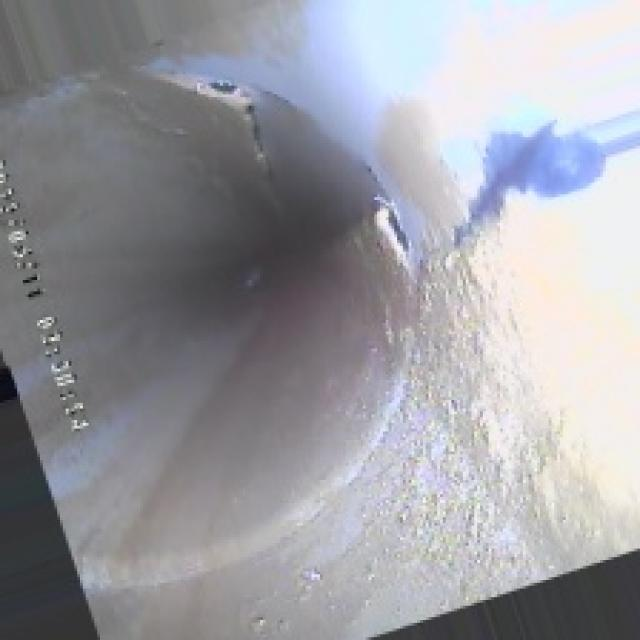pipe_surface_damage: (137, 63, 440, 337)
